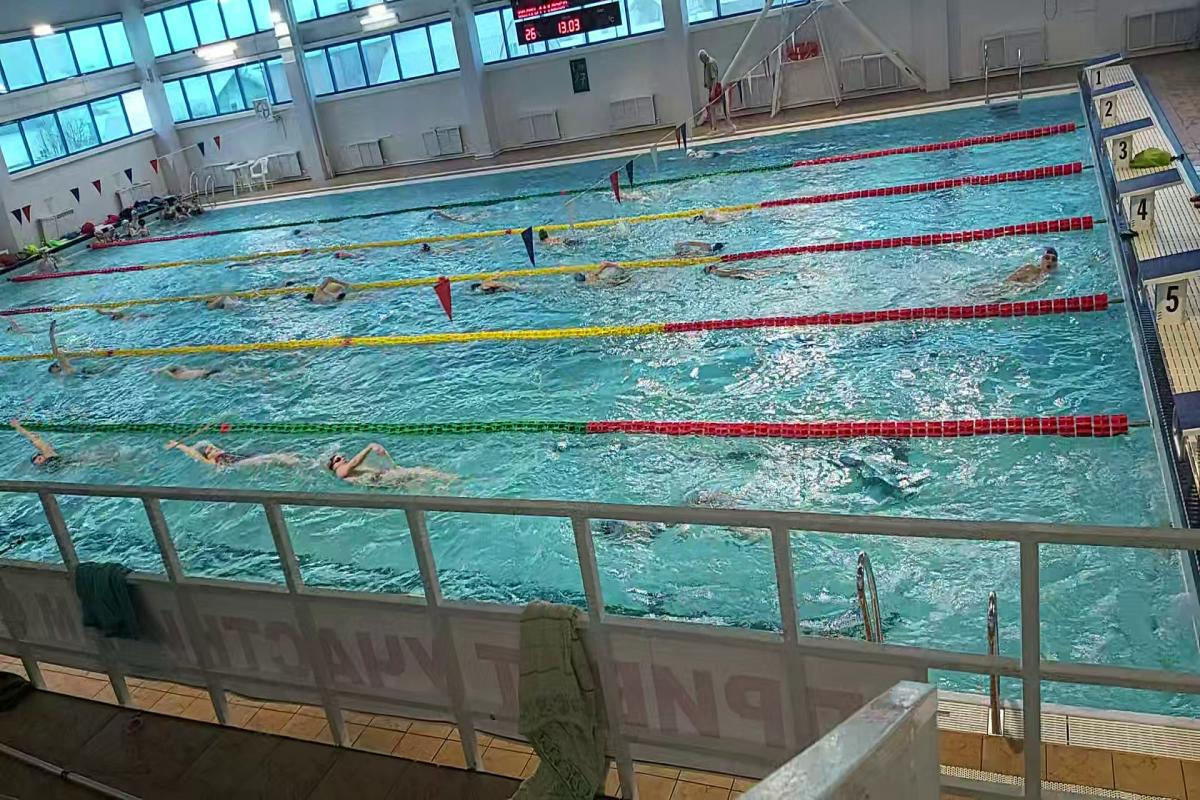swimmer: (317, 442, 447, 493), (972, 244, 1070, 303), (168, 434, 297, 478), (9, 427, 92, 476), (153, 348, 234, 392), (41, 318, 85, 384), (575, 259, 629, 291), (700, 260, 768, 285), (306, 275, 354, 309), (199, 290, 252, 318), (470, 273, 522, 300), (535, 222, 589, 248), (672, 237, 726, 256)
